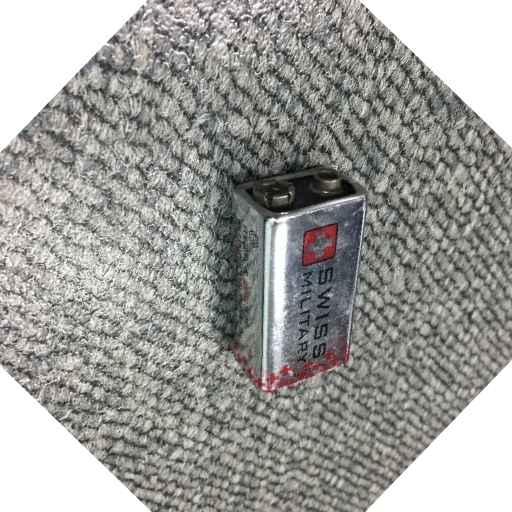Battery_3: (213, 147, 379, 398)
